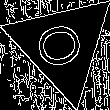O_E: (33, 18, 91, 72)
